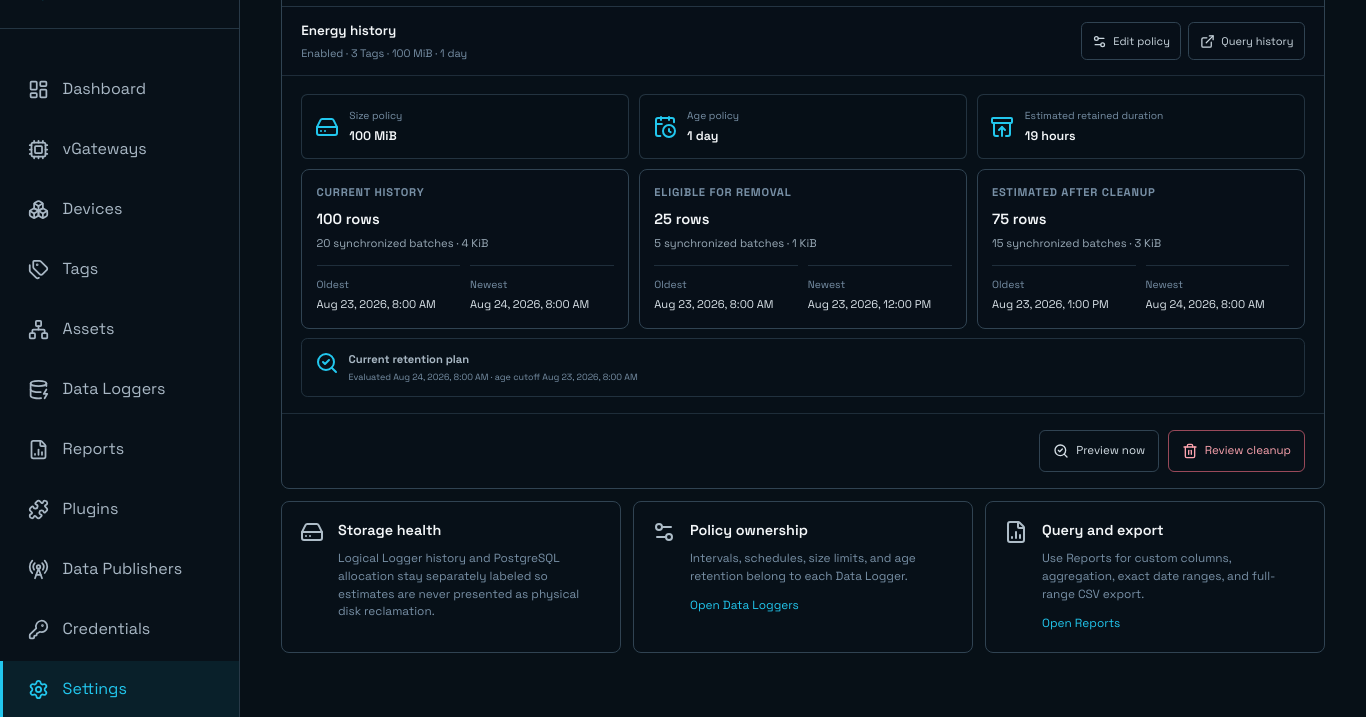
Test: DataManagementSettingsPage › runs a read-only fresh preview
(page scrolled)
Expected: the text "Eligible for removal" is shown, [654,185,792,199]
Click the button "Preview now".
click(1099, 451)  # box [1039,430,1159,472]
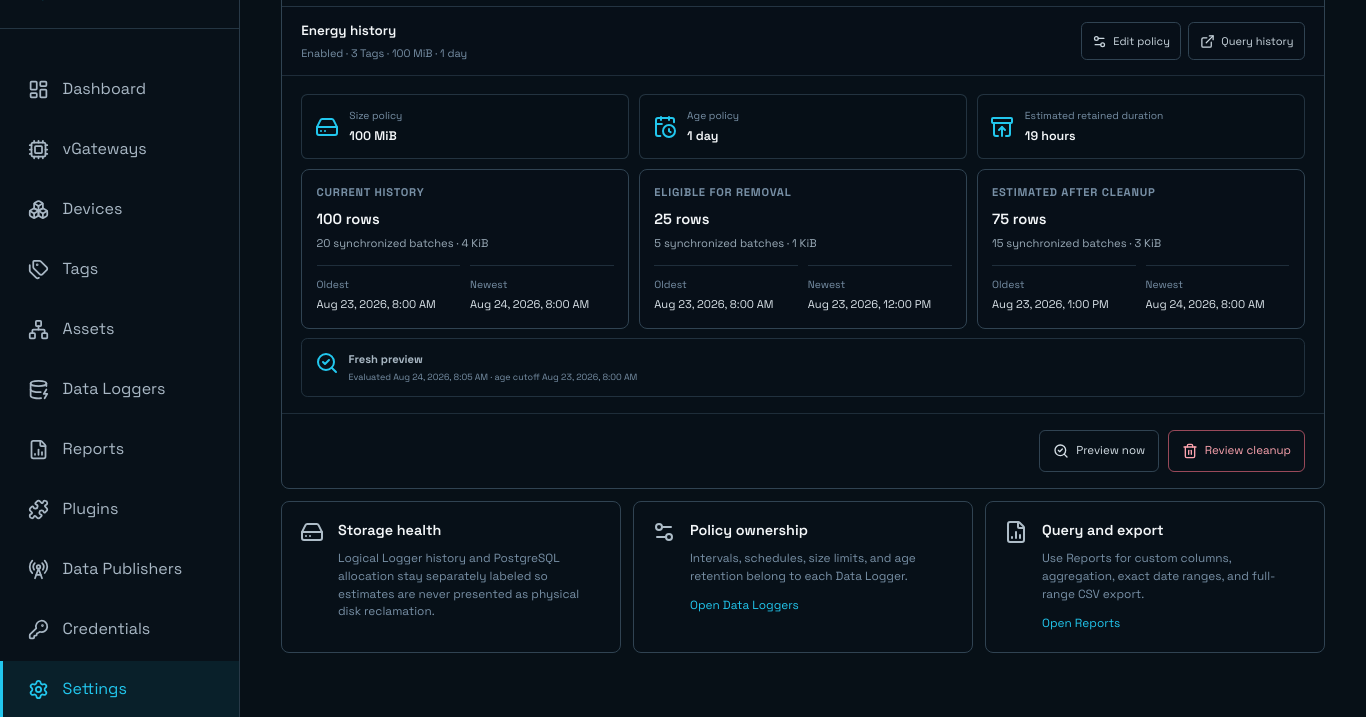
Result: the text "Fresh preview" is shown at [349,352,423,366]
